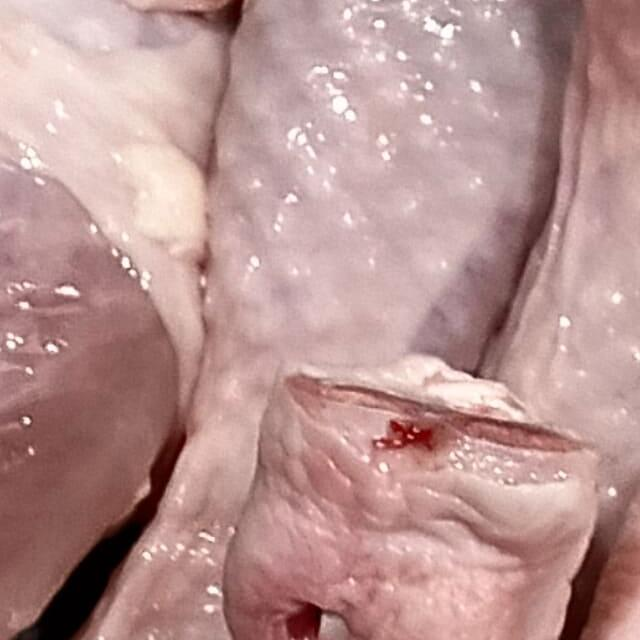chicken: (0, 0, 545, 628), (0, 303, 640, 640)
